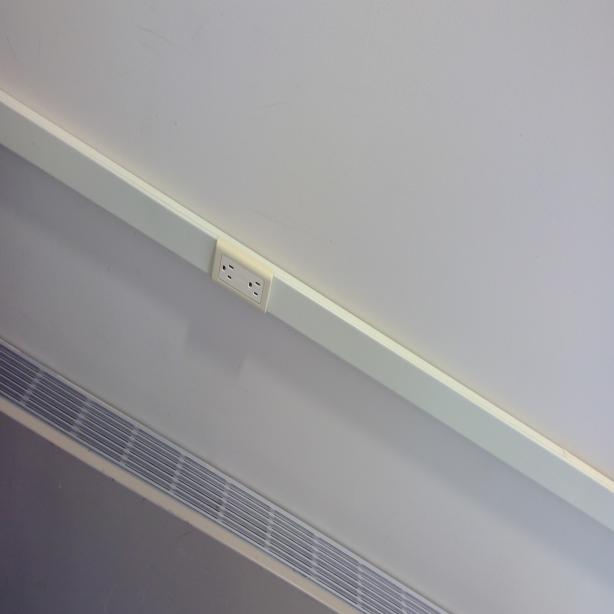typeb: (245, 272, 263, 301), (220, 260, 237, 282)
